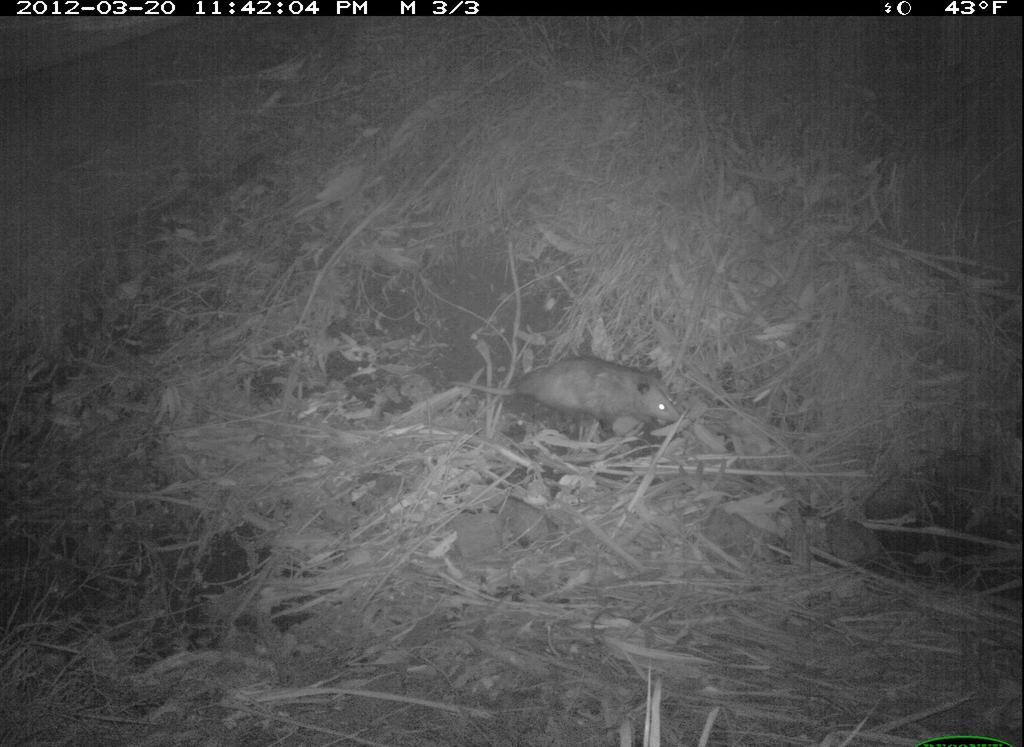opossum: (438, 353, 694, 443)
